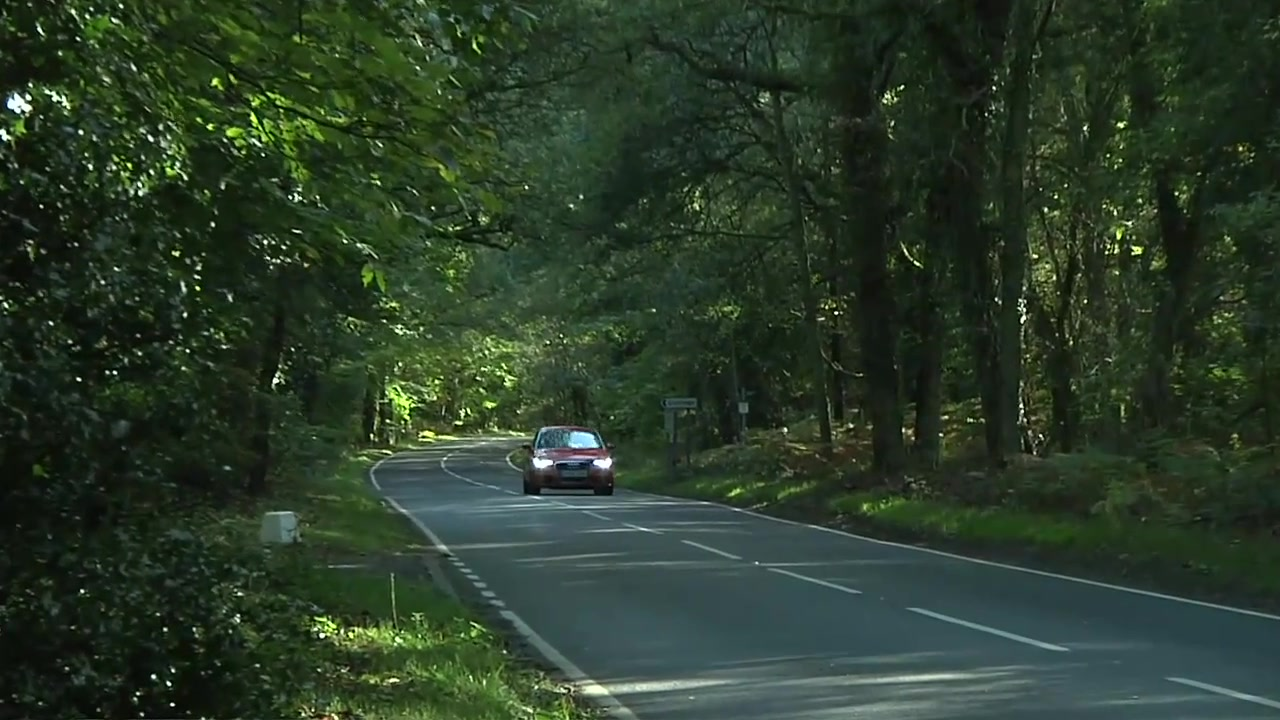car: (521, 424, 617, 499)
